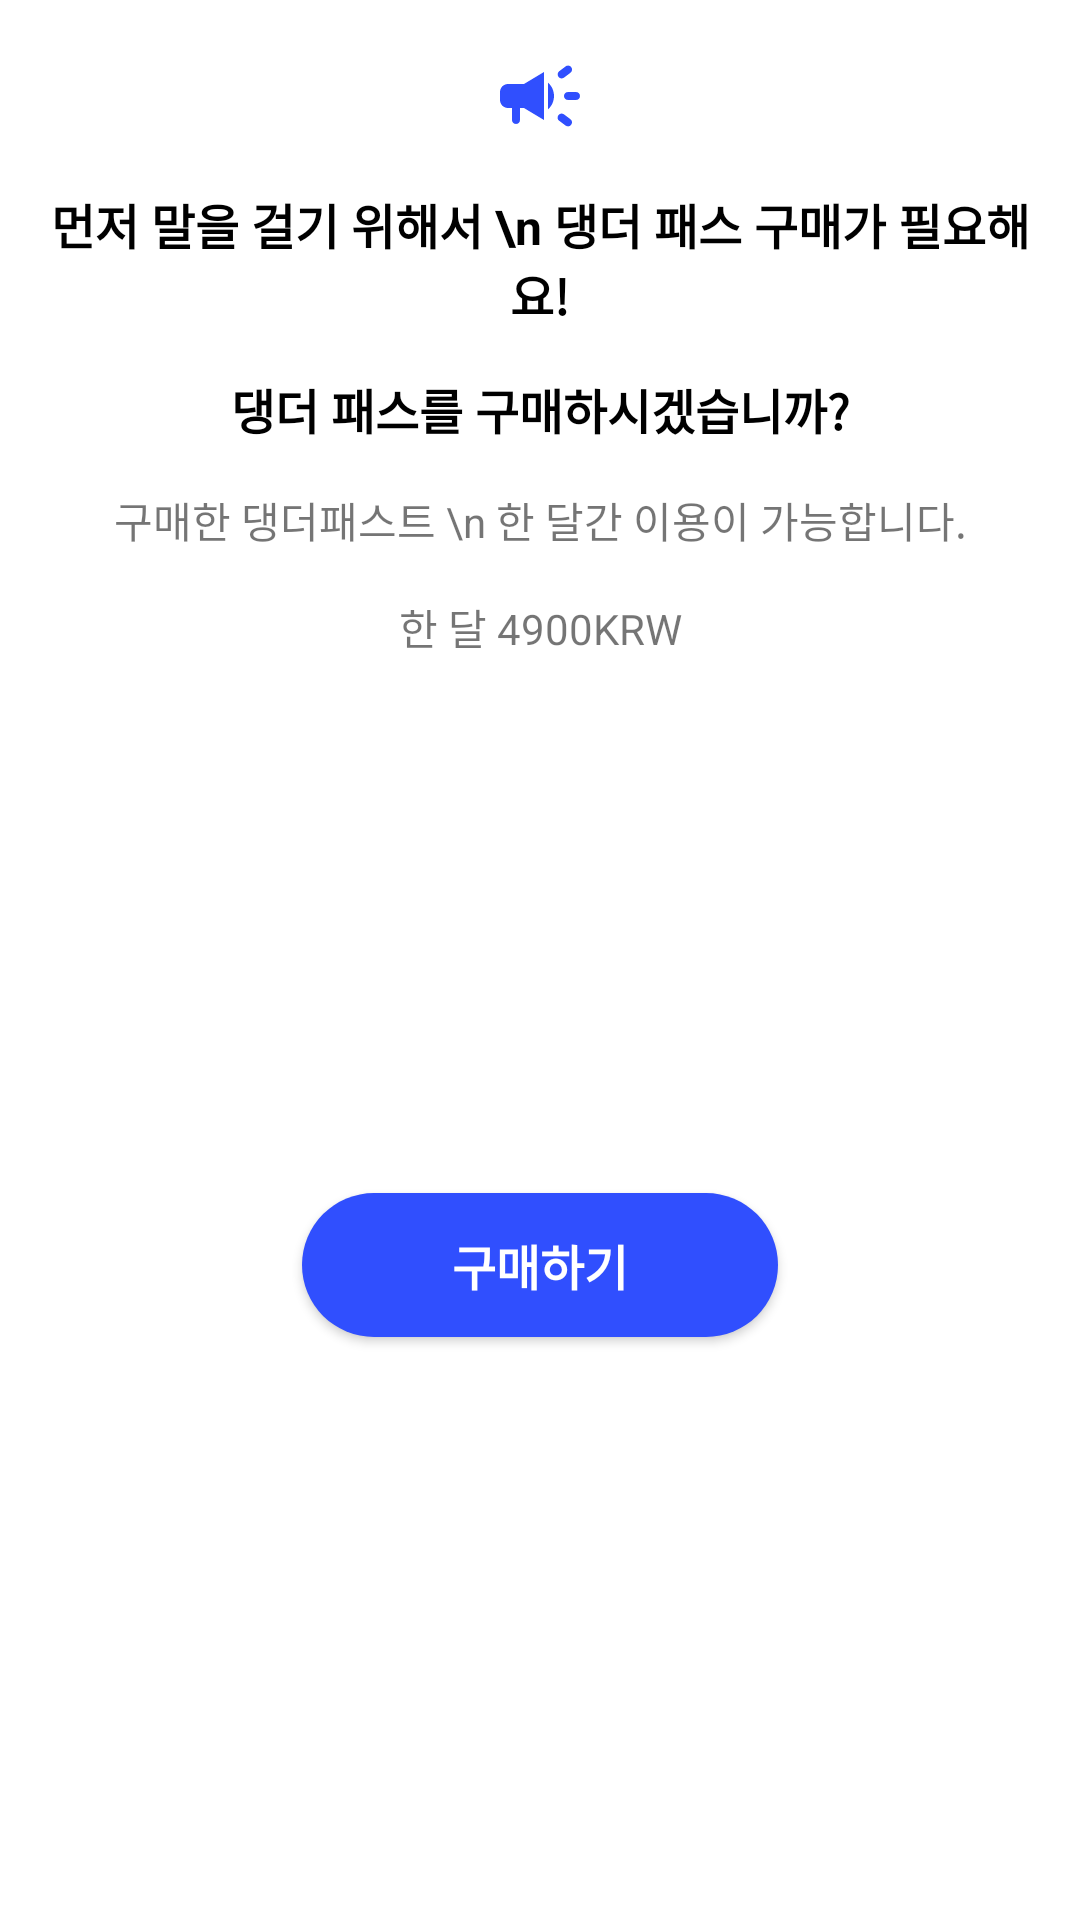

Icon click points for this 1080*1920 phone screenshot, format [x,y]:
campaign: [540,96]
